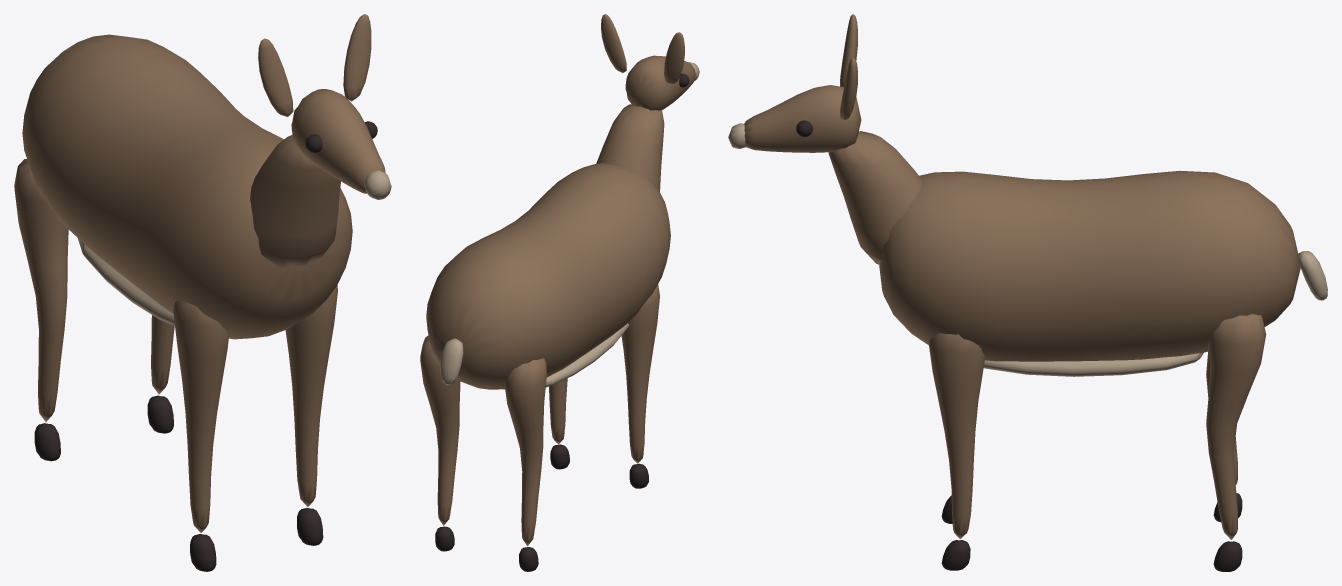
Rendered from deer_v3.glb.
3 views of the same model, side by side, from view 1: azimuth 30°, elevation 25°; view 2: azimuth 150°, elevation 25°; view 3: azimuth 270°, elevation 25° (orthographic). The views are drawn at different scales.
Visible parts, largest first — view 1: Deer_Body, Deer_Neck, Deer_LegBL, Deer_LegFL, Deer_LegFR, Deer_Head, Deer_Ear_1, Deer_Ear_-1, Deer_Belly, Deer_LegBR, Deer_HoofBR, Deer_HoofFL (+3 smaller); view 2: Deer_Body, Deer_LegBL, Deer_LegBR, Deer_Neck, Deer_LegFL, Deer_Head, Deer_Belly, Deer_LegFR, Deer_Ear_1, Deer_Tail, Deer_Ear_-1, Deer_HoofBR (+3 smaller); view 3: Deer_Body, Deer_LegBR, Deer_Neck, Deer_LegFR, Deer_Head, Deer_Belly, Deer_Tail, Deer_Ear_1.
Part boxes in pixels (x1=…): Deer_Body: x1=22, y1=34, x2=352, y2=339; Deer_Neck: x1=250, y1=135, x2=340, y2=267; Deer_LegBL: x1=14, y1=159, x2=68, y2=421; Deer_LegFL: x1=173, y1=299, x2=229, y2=532; Deer_LegFR: x1=285, y1=285, x2=337, y2=506; Deer_Head: x1=291, y1=89, x2=385, y2=193; Deer_Ear_1: x1=343, y1=14, x2=371, y2=101; Deer_Ear_-1: x1=258, y1=38, x2=293, y2=116; Deer_Belly: x1=77, y1=238, x2=174, y2=325; Deer_LegBR: x1=151, y1=315, x2=174, y2=394; Deer_HoofBR: x1=147, y1=395, x2=173, y2=433; Deer_HoofFL: x1=190, y1=534, x2=216, y2=571; Deer_Body: x1=426, y1=163, x2=670, y2=389; Deer_LegBL: x1=504, y1=358, x2=546, y2=546; Deer_LegBR: x1=420, y1=335, x2=460, y2=525; Deer_Neck: x1=596, y1=104, x2=664, y2=191; Deer_LegFL: x1=621, y1=284, x2=659, y2=463; Deer_Head: x1=625, y1=55, x2=695, y2=110; Deer_Belly: x1=503, y1=323, x2=629, y2=389; Deer_LegFR: x1=549, y1=378, x2=567, y2=444; Deer_Ear_1: x1=601, y1=14, x2=626, y2=72; Deer_Tail: x1=440, y1=338, x2=463, y2=385; Deer_Ear_-1: x1=664, y1=32, x2=684, y2=84; Deer_HoofBR: x1=435, y1=526, x2=454, y2=551; Deer_Body: x1=879, y1=170, x2=1300, y2=361; Deer_LegBR: x1=1206, y1=314, x2=1266, y2=539; Deer_Neck: x1=828, y1=131, x2=921, y2=264; Deer_LegFR: x1=928, y1=333, x2=984, y2=538; Deer_Head: x1=744, y1=85, x2=861, y2=152; Deer_Belly: x1=983, y1=352, x2=1203, y2=376; Deer_Tail: x1=1298, y1=251, x2=1327, y2=300; Deer_Ear_1: x1=840, y1=57, x2=857, y2=120.
Bounding box in the file's own units: 0.5544 × 1.74 × 1.85.
